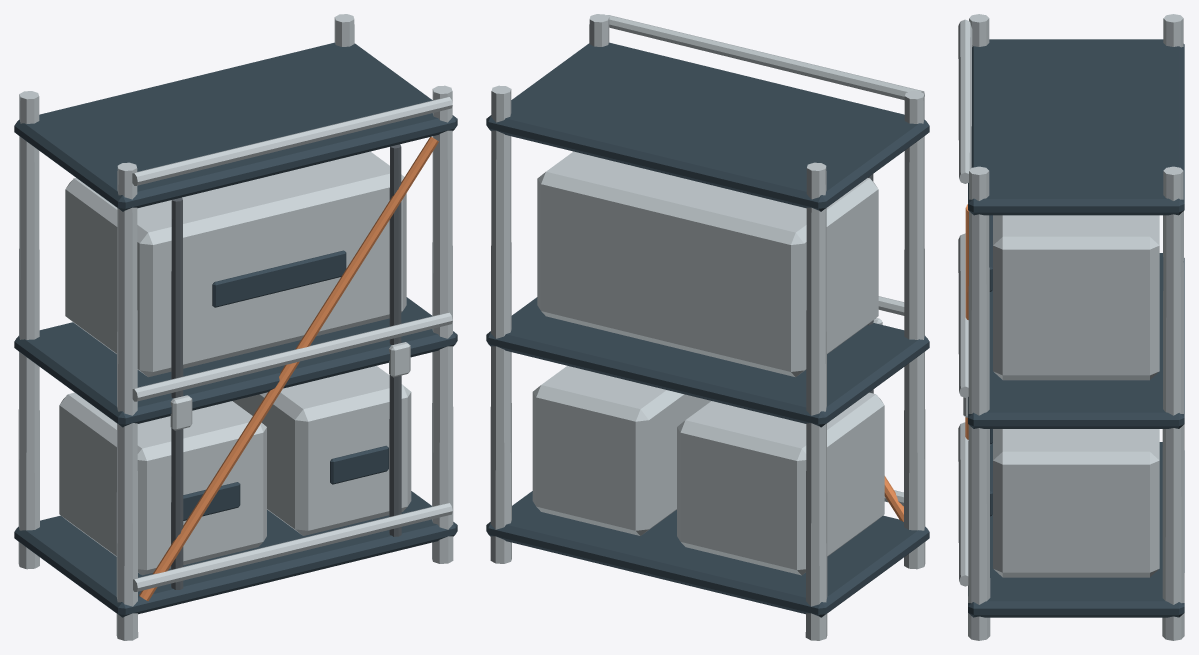
3 renders of one model, left to right at view 1: azimuth 30°, elevation 25°; view 2: azimuth 150°, elevation 25°; view 3: azimuth 270°, elevation 25°, orthographic.
Parts seen in each view (by area): view 1: RI-004 Strapped cargo case rack batched; view 2: RI-004 Strapped cargo case rack batched; view 3: RI-004 Strapped cargo case rack batched.
Boxes of the visible parts, x1,y1,x2,y2 form: RI-004 Strapped cargo case rack batched: (14, 14, 457, 640); RI-004 Strapped cargo case rack batched: (486, 14, 929, 640); RI-004 Strapped cargo case rack batched: (958, 14, 1184, 640).
Bounding box in the file's own units: 1.4 × 1.85 × 0.815.
